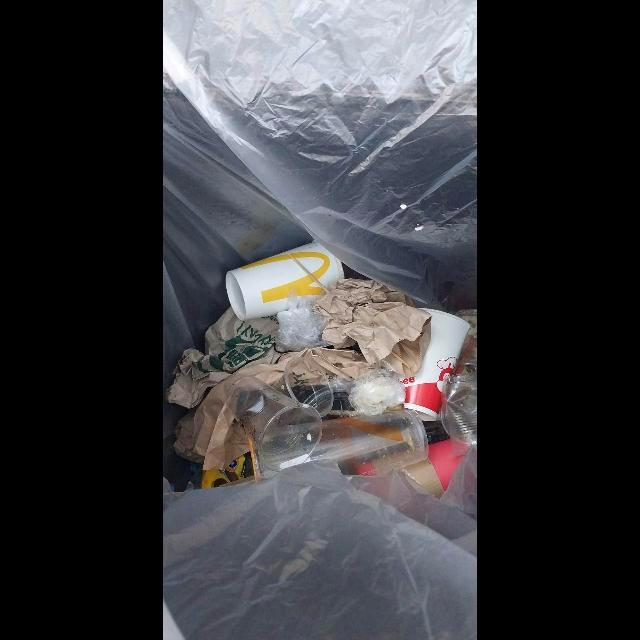cardboard: (225, 242, 345, 322), (399, 308, 471, 422)
paper: (173, 348, 367, 471), (314, 279, 432, 378), (166, 307, 279, 409)
plastic_bag: (274, 288, 331, 354), (348, 369, 405, 416)
plastic_container: (305, 408, 428, 477), (441, 372, 477, 456)
